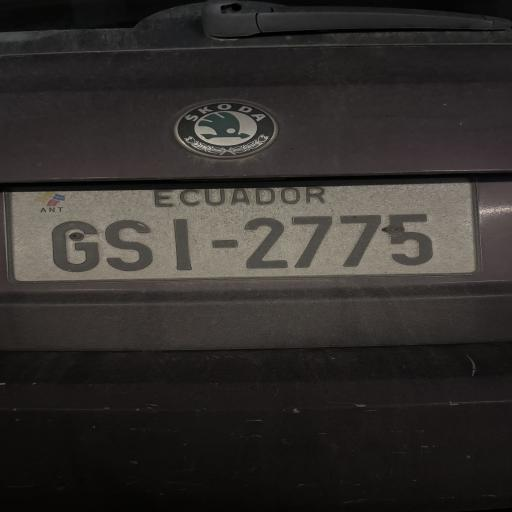license_plate: (6, 181, 477, 282)
